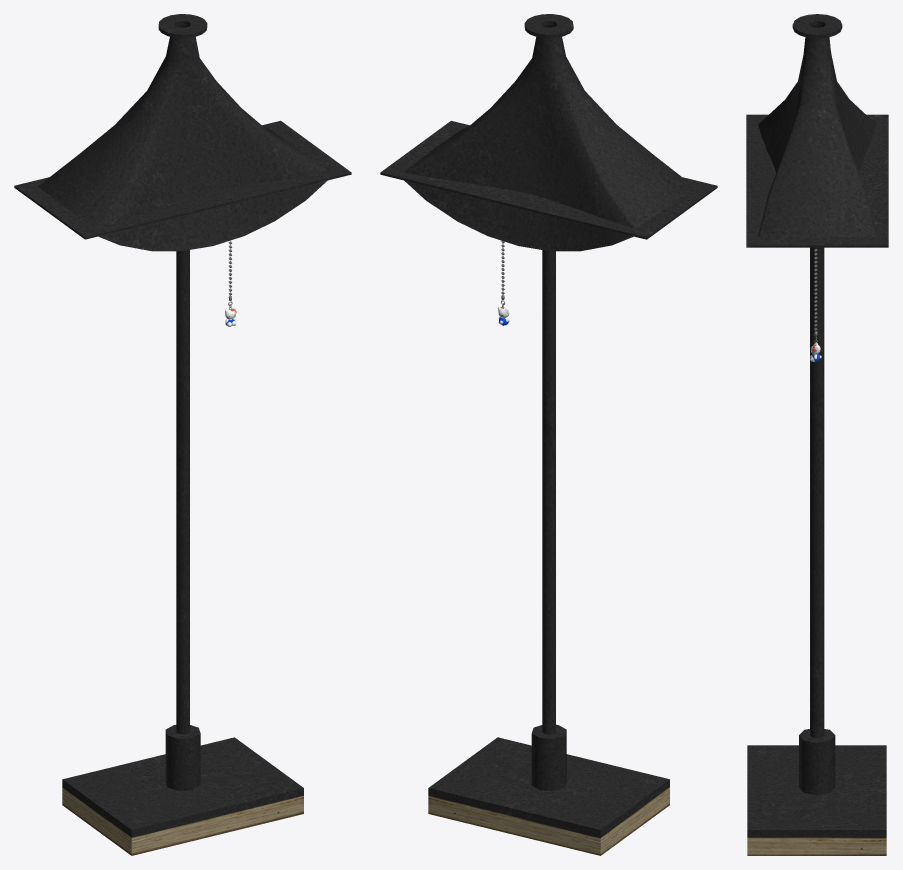
File: 10_AltecLamp_Black.glb
The picture shows the model from 3 angles, left to right: view 1: azimuth 30°, elevation 25°; view 2: azimuth 150°, elevation 25°; view 3: azimuth 270°, elevation 25°; orthographic projection.
Parts seen in each view (by area): view 1: AltecLamp_Black_baseMesh; view 2: AltecLamp_Black_baseMesh; view 3: AltecLamp_Black_baseMesh.
Part boxes in pixels (left/top/right/bottom): AltecLamp_Black_baseMesh: left=14, top=14, right=351, bottom=855; AltecLamp_Black_baseMesh: left=380, top=14, right=717, bottom=855; AltecLamp_Black_baseMesh: left=746, top=14, right=888, bottom=855.
Bounding box in the file's own units: 0.5658 × 1.59 × 0.2601.
Materials: 2 (2 with a texture image).
